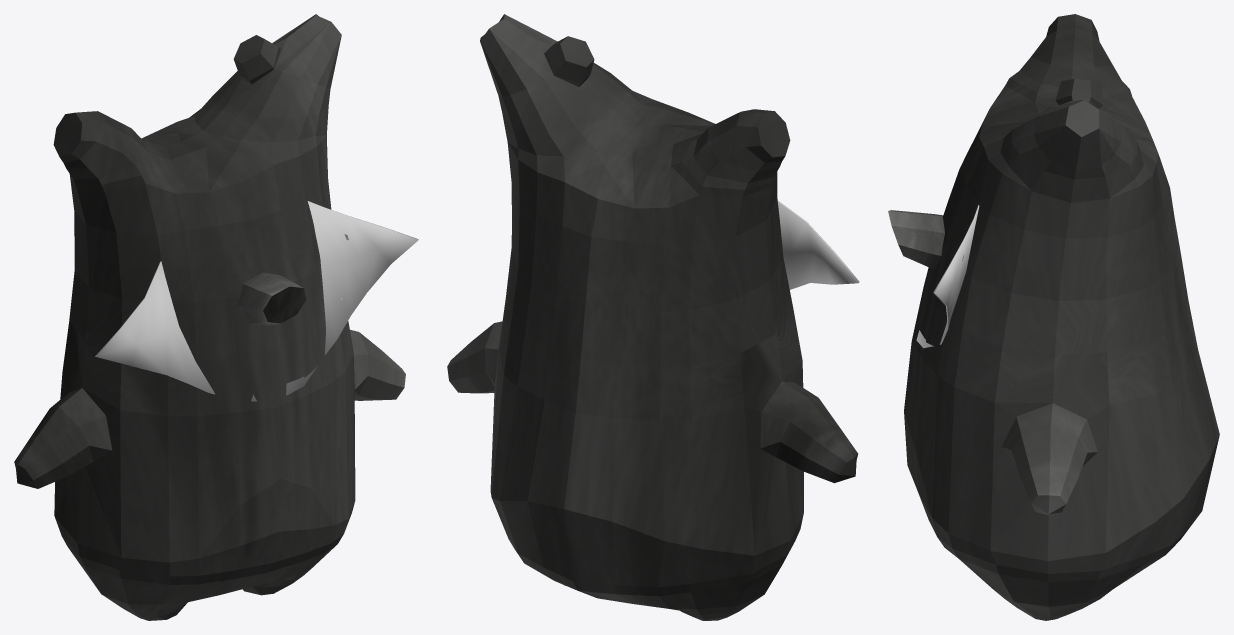
File: frame_0079.obj
The picture shows the model from 3 angles, left to right: view 1: azimuth 30°, elevation 25°; view 2: azimuth 150°, elevation 25°; view 3: azimuth 270°, elevation 25°; orthographic projection. The views are drawn at different scales.
Parts seen in each view (by area): view 1: korok, leaf, nose; view 2: korok, leaf; view 3: korok, nose, leaf.
Part boxes in pixels (x1=…): korok: x1=14, y1=14, x2=405, y2=620; leaf: x1=95, y1=201, x2=418, y2=401; nose: x1=237, y1=272, x2=306, y2=325; korok: x1=447, y1=14, x2=858, y2=620; leaf: x1=777, y1=200, x2=859, y2=289; korok: x1=904, y1=14, x2=1219, y2=620; nose: x1=888, y1=210, x2=944, y2=269; leaf: x1=916, y1=205, x2=979, y2=348.
Size of the model in its own units: 1.67 by 2.25 by 1.23.
